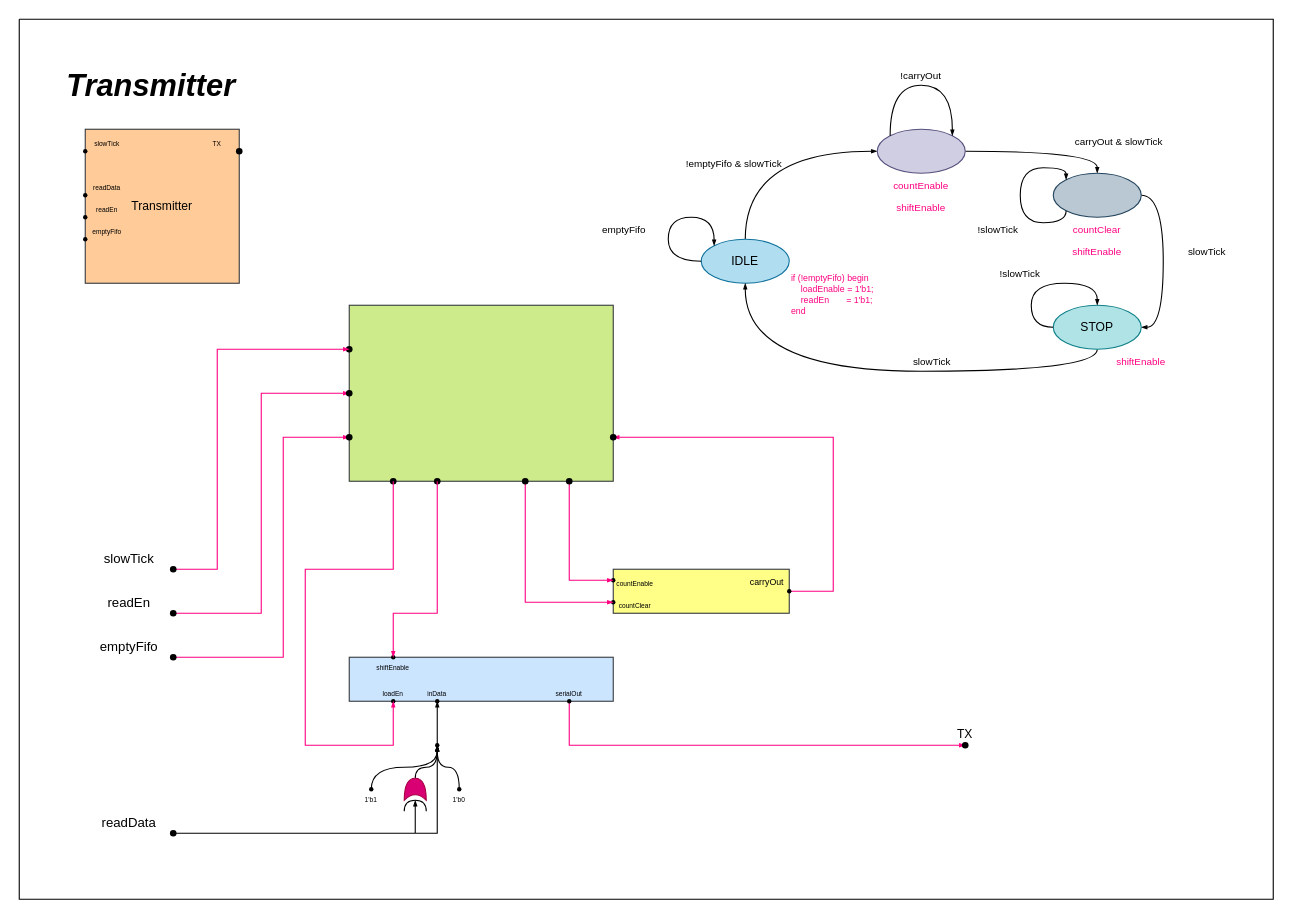
This 1294x920 diagram has some shape labels left out. Here are the shapes that lost their labels. From the top down, the box of each, then its label:
(876, 128, 965, 173): DATA
(1052, 172, 1141, 217): PARITY
(348, 304, 613, 481): Controller
(612, 568, 789, 613): counter
(348, 656, 613, 701): shiftReg
